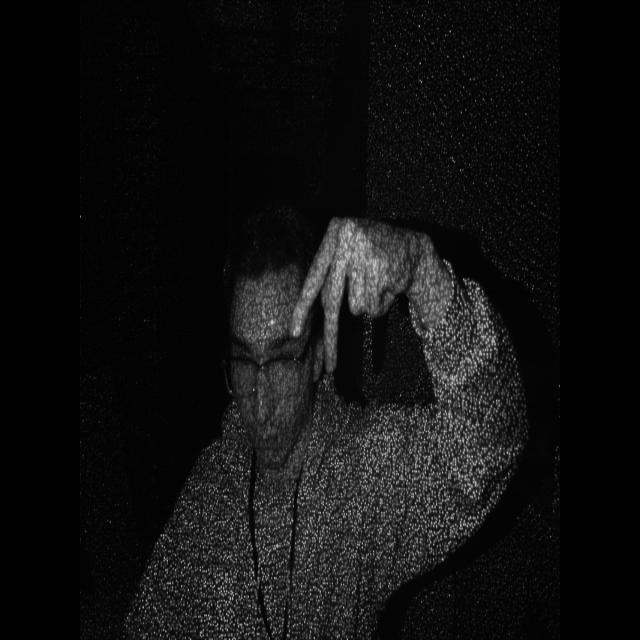P: (286, 200, 413, 382)
